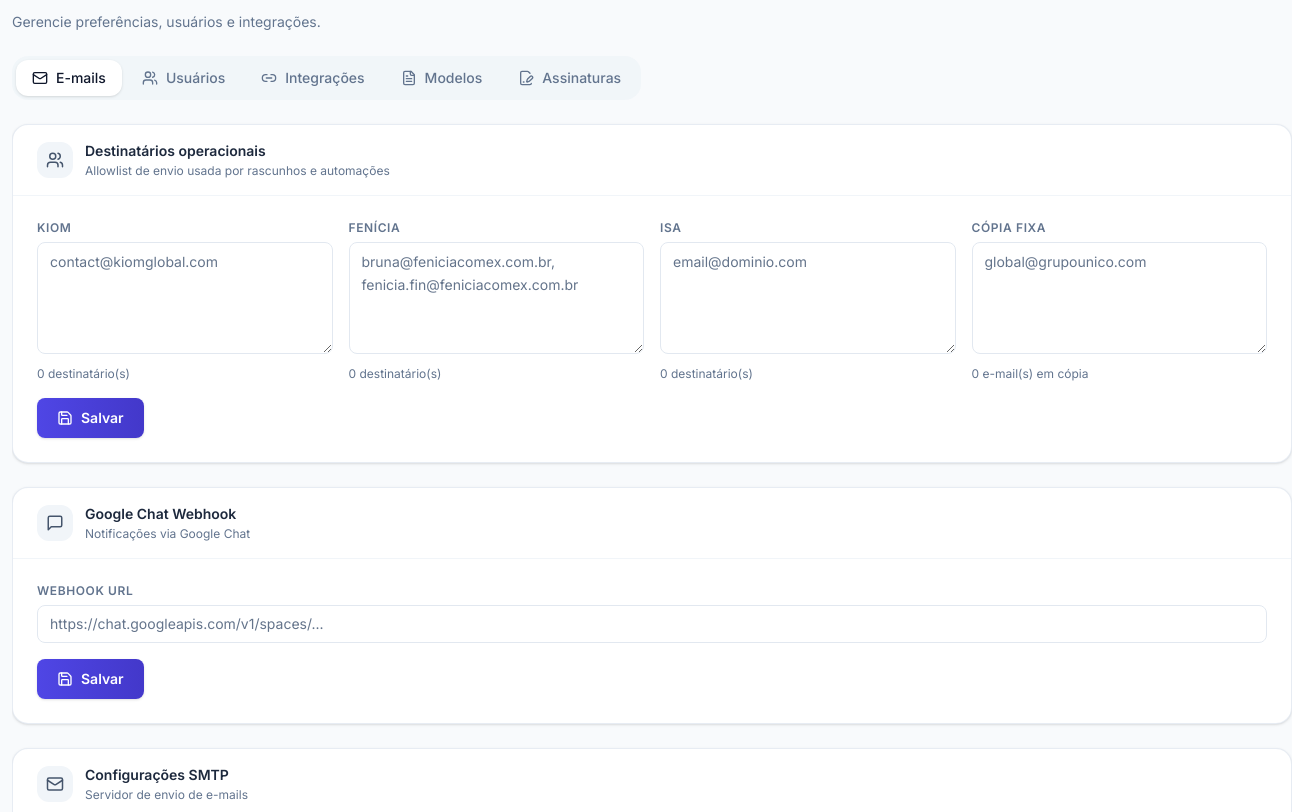
Test case: SettingsPage — abas de Modelos e Assinaturas › mostra erro em vez de "Nenhum modelo cadastrado"
Click the button "Modelos" at [441, 78], box x1=385 y1=60 x2=498 y2=96
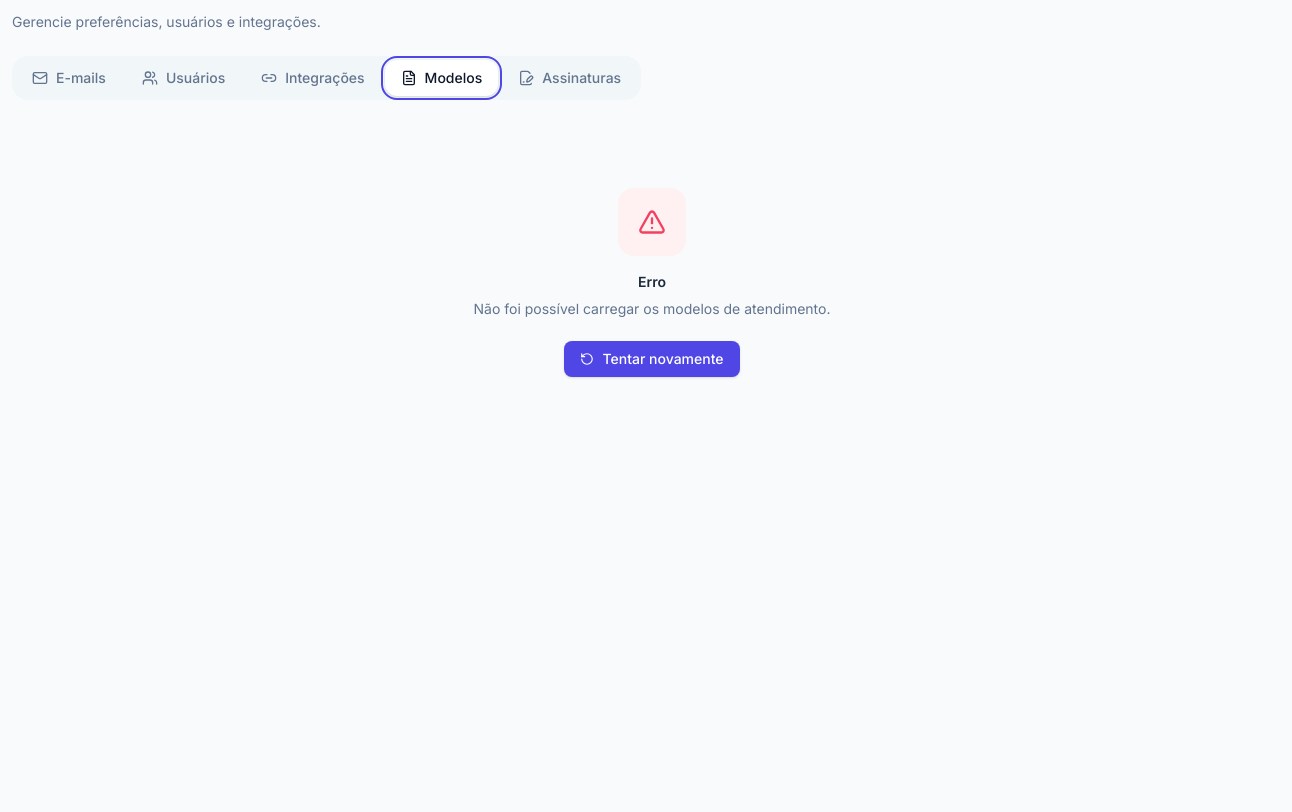
Now the text "Não foi possível carregar os modelos de atendimento." is shown, box x1=474 y1=298 x2=830 y2=321
